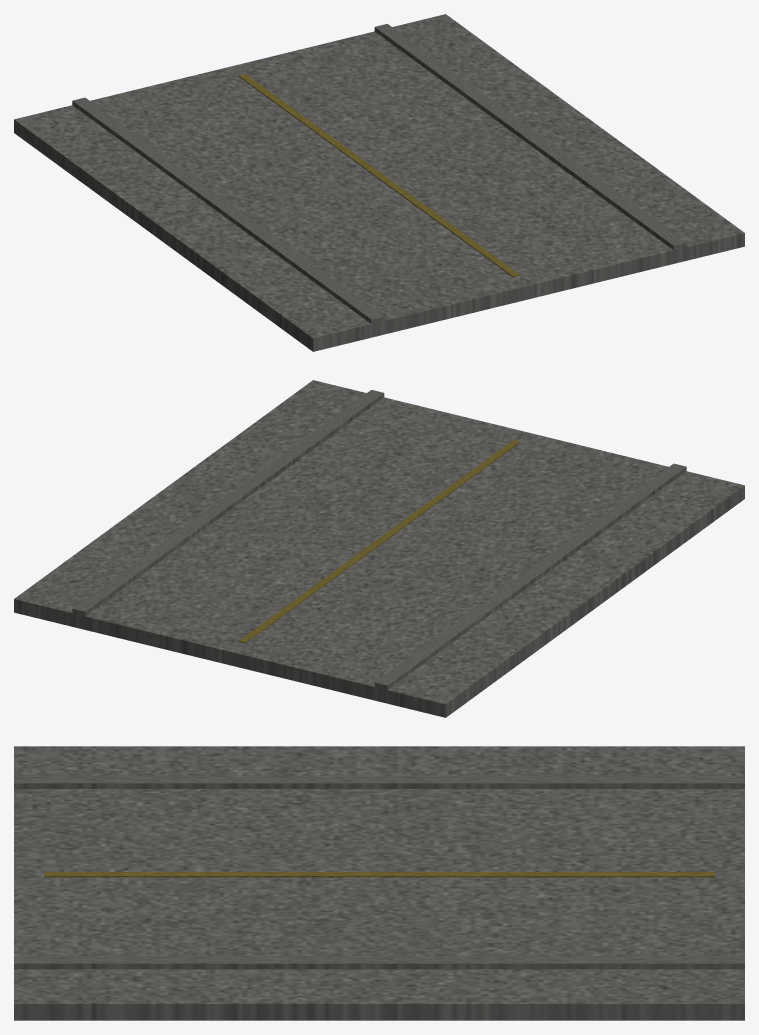
Rendered from city_tile_lod2.glb.
The picture shows the model from 3 angles, top to bottom: view 1: azimuth 30°, elevation 25°; view 2: azimuth 150°, elevation 25°; view 3: azimuth 270°, elevation 25°; orthographic projection. The views are drawn at different scales.
Parts seen in each view (by area): view 1: world; view 2: world; view 3: world.
Part boxes in pixels (x1,y1,x2,y2): world: (14,14,744,351); world: (14,380,744,717); world: (14,746,744,1020).
Bounding box in the file's own units: 10 × 0.4 × 12.
Materials: 4 (4 with a texture image).
